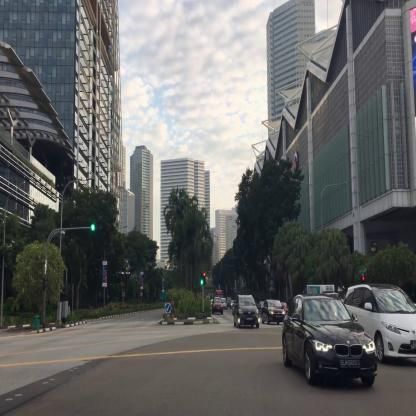green_traffic_light: (91, 225, 101, 230), (200, 274, 203, 284)
